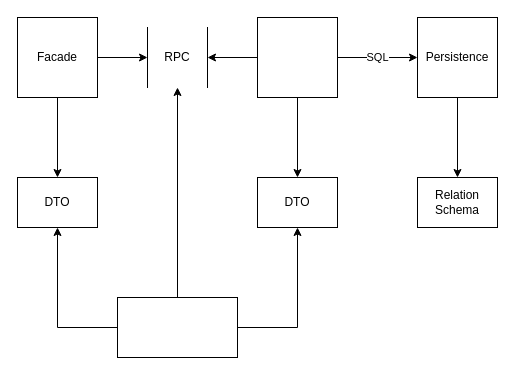
Image size: 515x375. Some labels were removed from this diagram. Here are the shapes that lost their labels. From the top down, the centre of each, then its label:
At point (297, 57): "Backend".
At point (177, 327): "gRPC / Protobuf".
